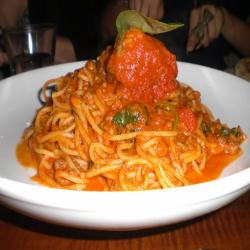bolonese_pasta: (30, 26, 225, 207)
